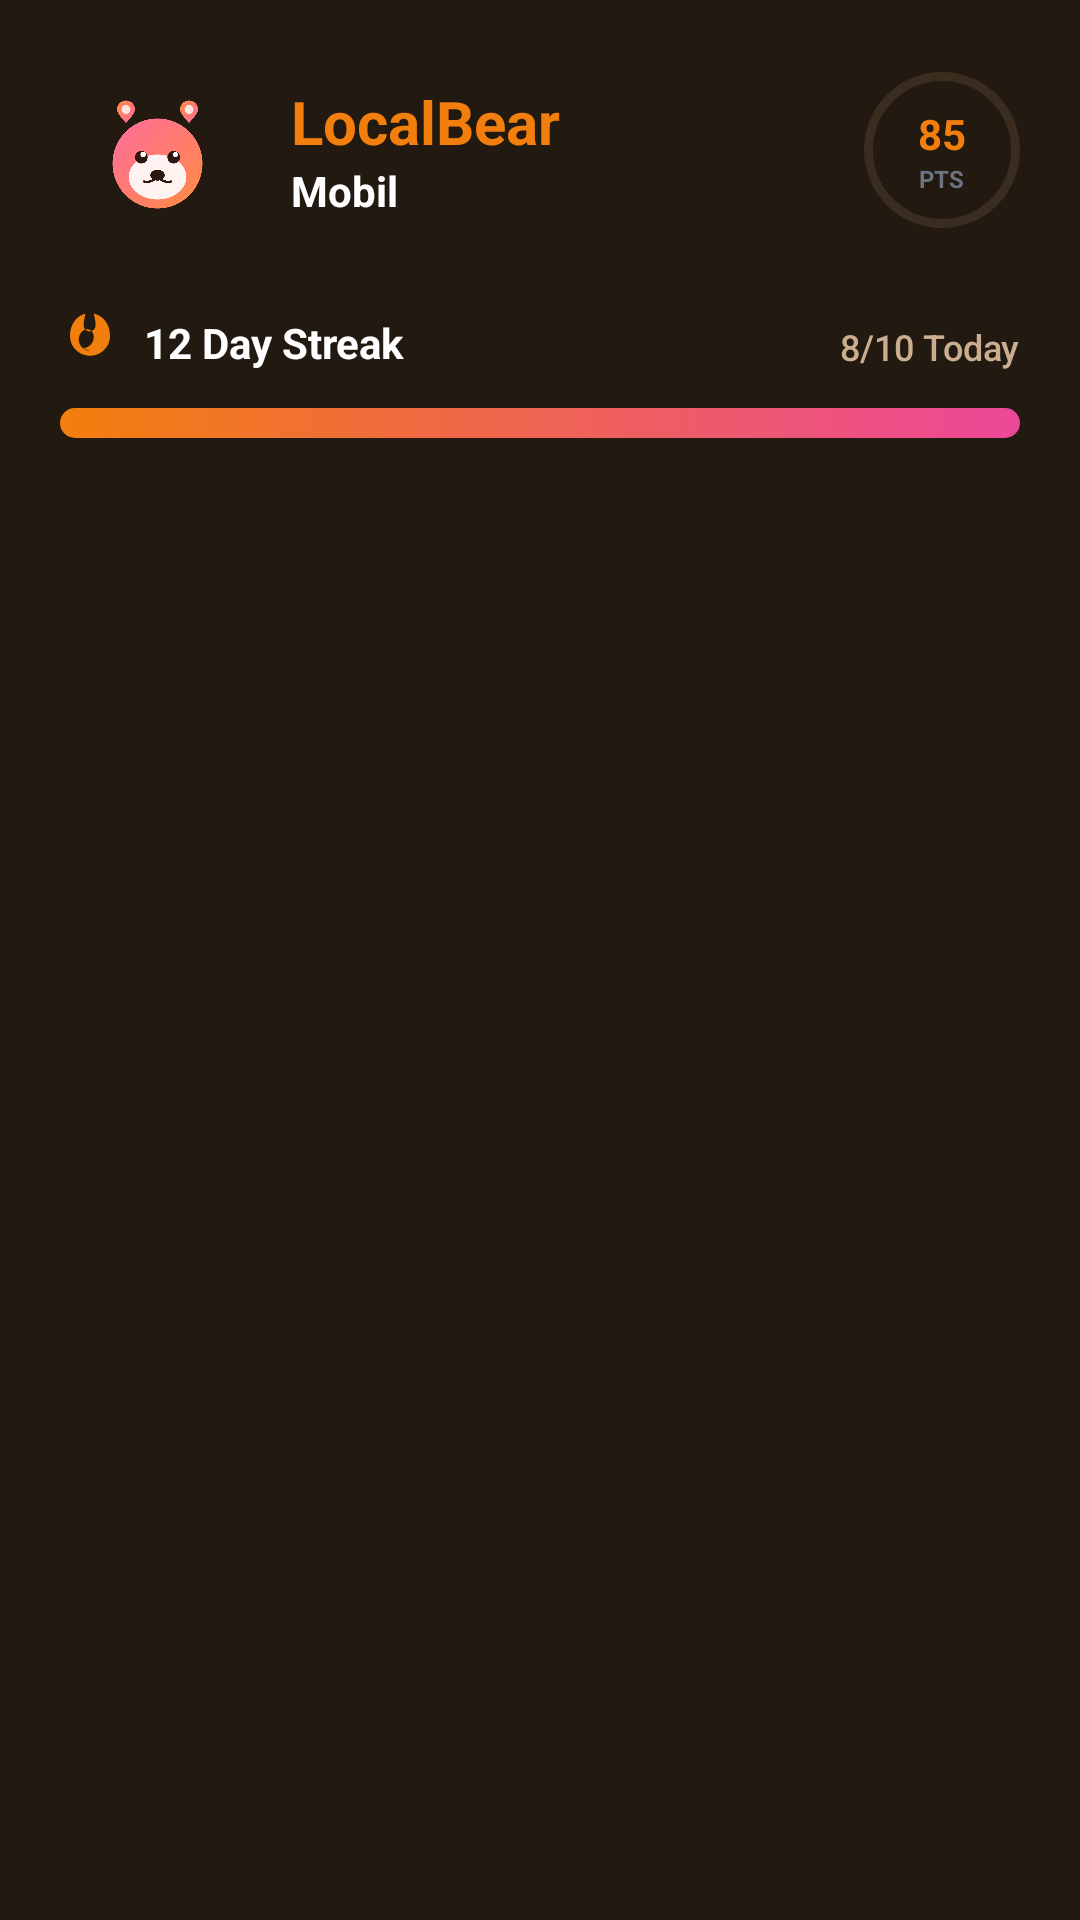

Where icons sit on this 1080 × 1920 app screen, as (x1, y1, x2, y2):
fire: (70, 313, 110, 356)
